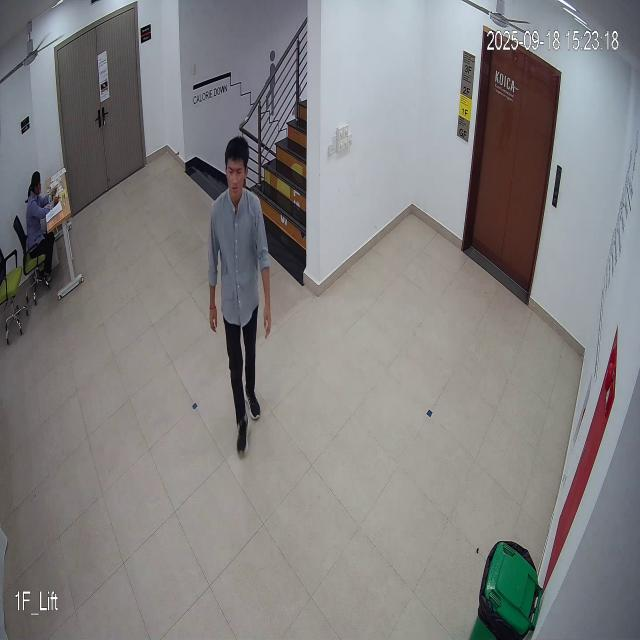face: (225, 134, 248, 200)
